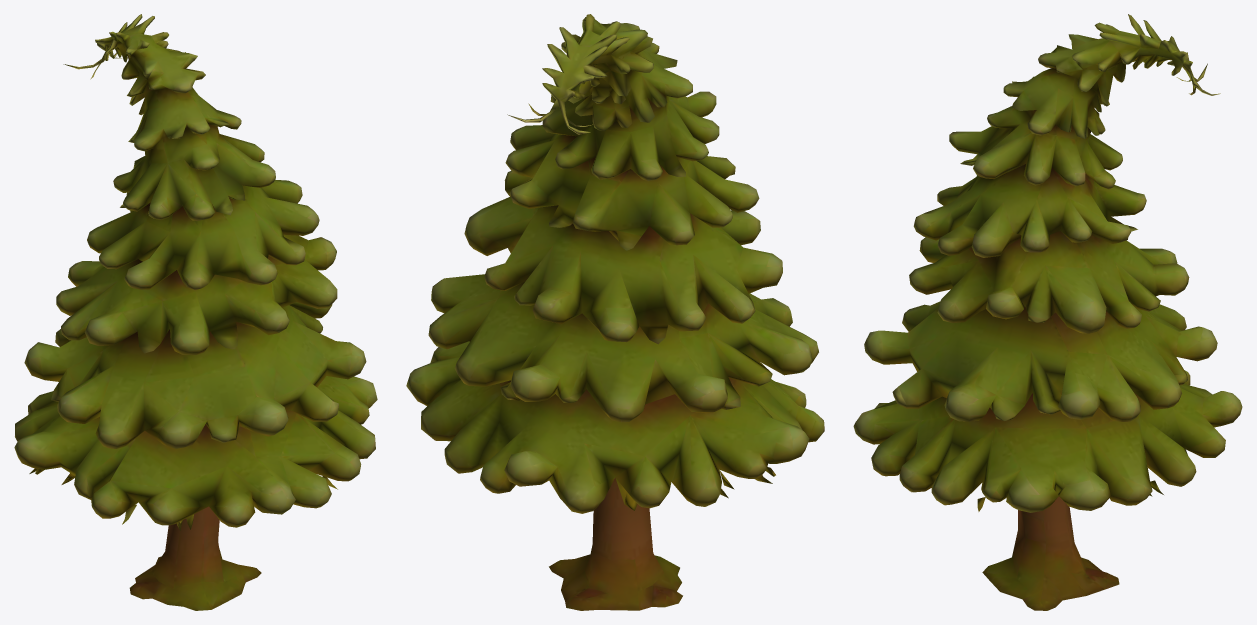
The model's file is pine_5.glb.
3 views of the same model, side by side, from view 1: azimuth 30°, elevation 25°; view 2: azimuth 150°, elevation 25°; view 3: azimuth 270°, elevation 25° (orthographic). The views are drawn at different scales.
Parts seen in each view (by area): view 1: tripo_node_d1a34aa6-3048-4501-98ab-0689c9205619; view 2: tripo_node_d1a34aa6-3048-4501-98ab-0689c9205619; view 3: tripo_node_d1a34aa6-3048-4501-98ab-0689c9205619.
Part boxes in pixels (x1=…): tripo_node_d1a34aa6-3048-4501-98ab-0689c9205619: x1=14, y1=14, x2=377, y2=610; tripo_node_d1a34aa6-3048-4501-98ab-0689c9205619: x1=406, y1=14, x2=824, y2=610; tripo_node_d1a34aa6-3048-4501-98ab-0689c9205619: x1=853, y1=14, x2=1242, y2=610.
Bounding box in the file's own units: 5.91 × 8.7 × 5.6.
1 material, 1 textured.
